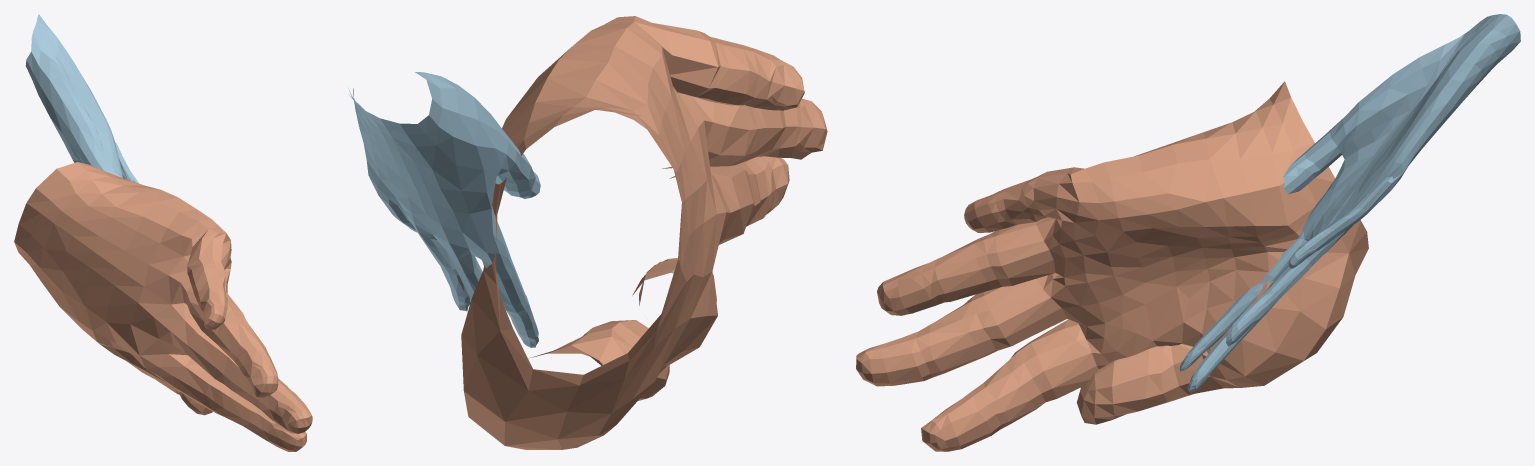
The model's file is frame_001.glb.
3 renders of one model, left to right at view 1: azimuth 30°, elevation 25°; view 2: azimuth 150°, elevation 25°; view 3: azimuth 270°, elevation 25°, orthographic. The views are drawn at different scales.
Visible parts, largest first — view 1: world; view 2: world; view 3: world.
Part boxes in pixels (x1=…): world: x1=14, y1=14, x2=312, y2=451; world: x1=348, y1=16, x2=827, y2=449; world: x1=856, y1=14, x2=1520, y2=451.
Bounding box in the file's own units: 0.0772 × 0.1468 × 0.2181.
